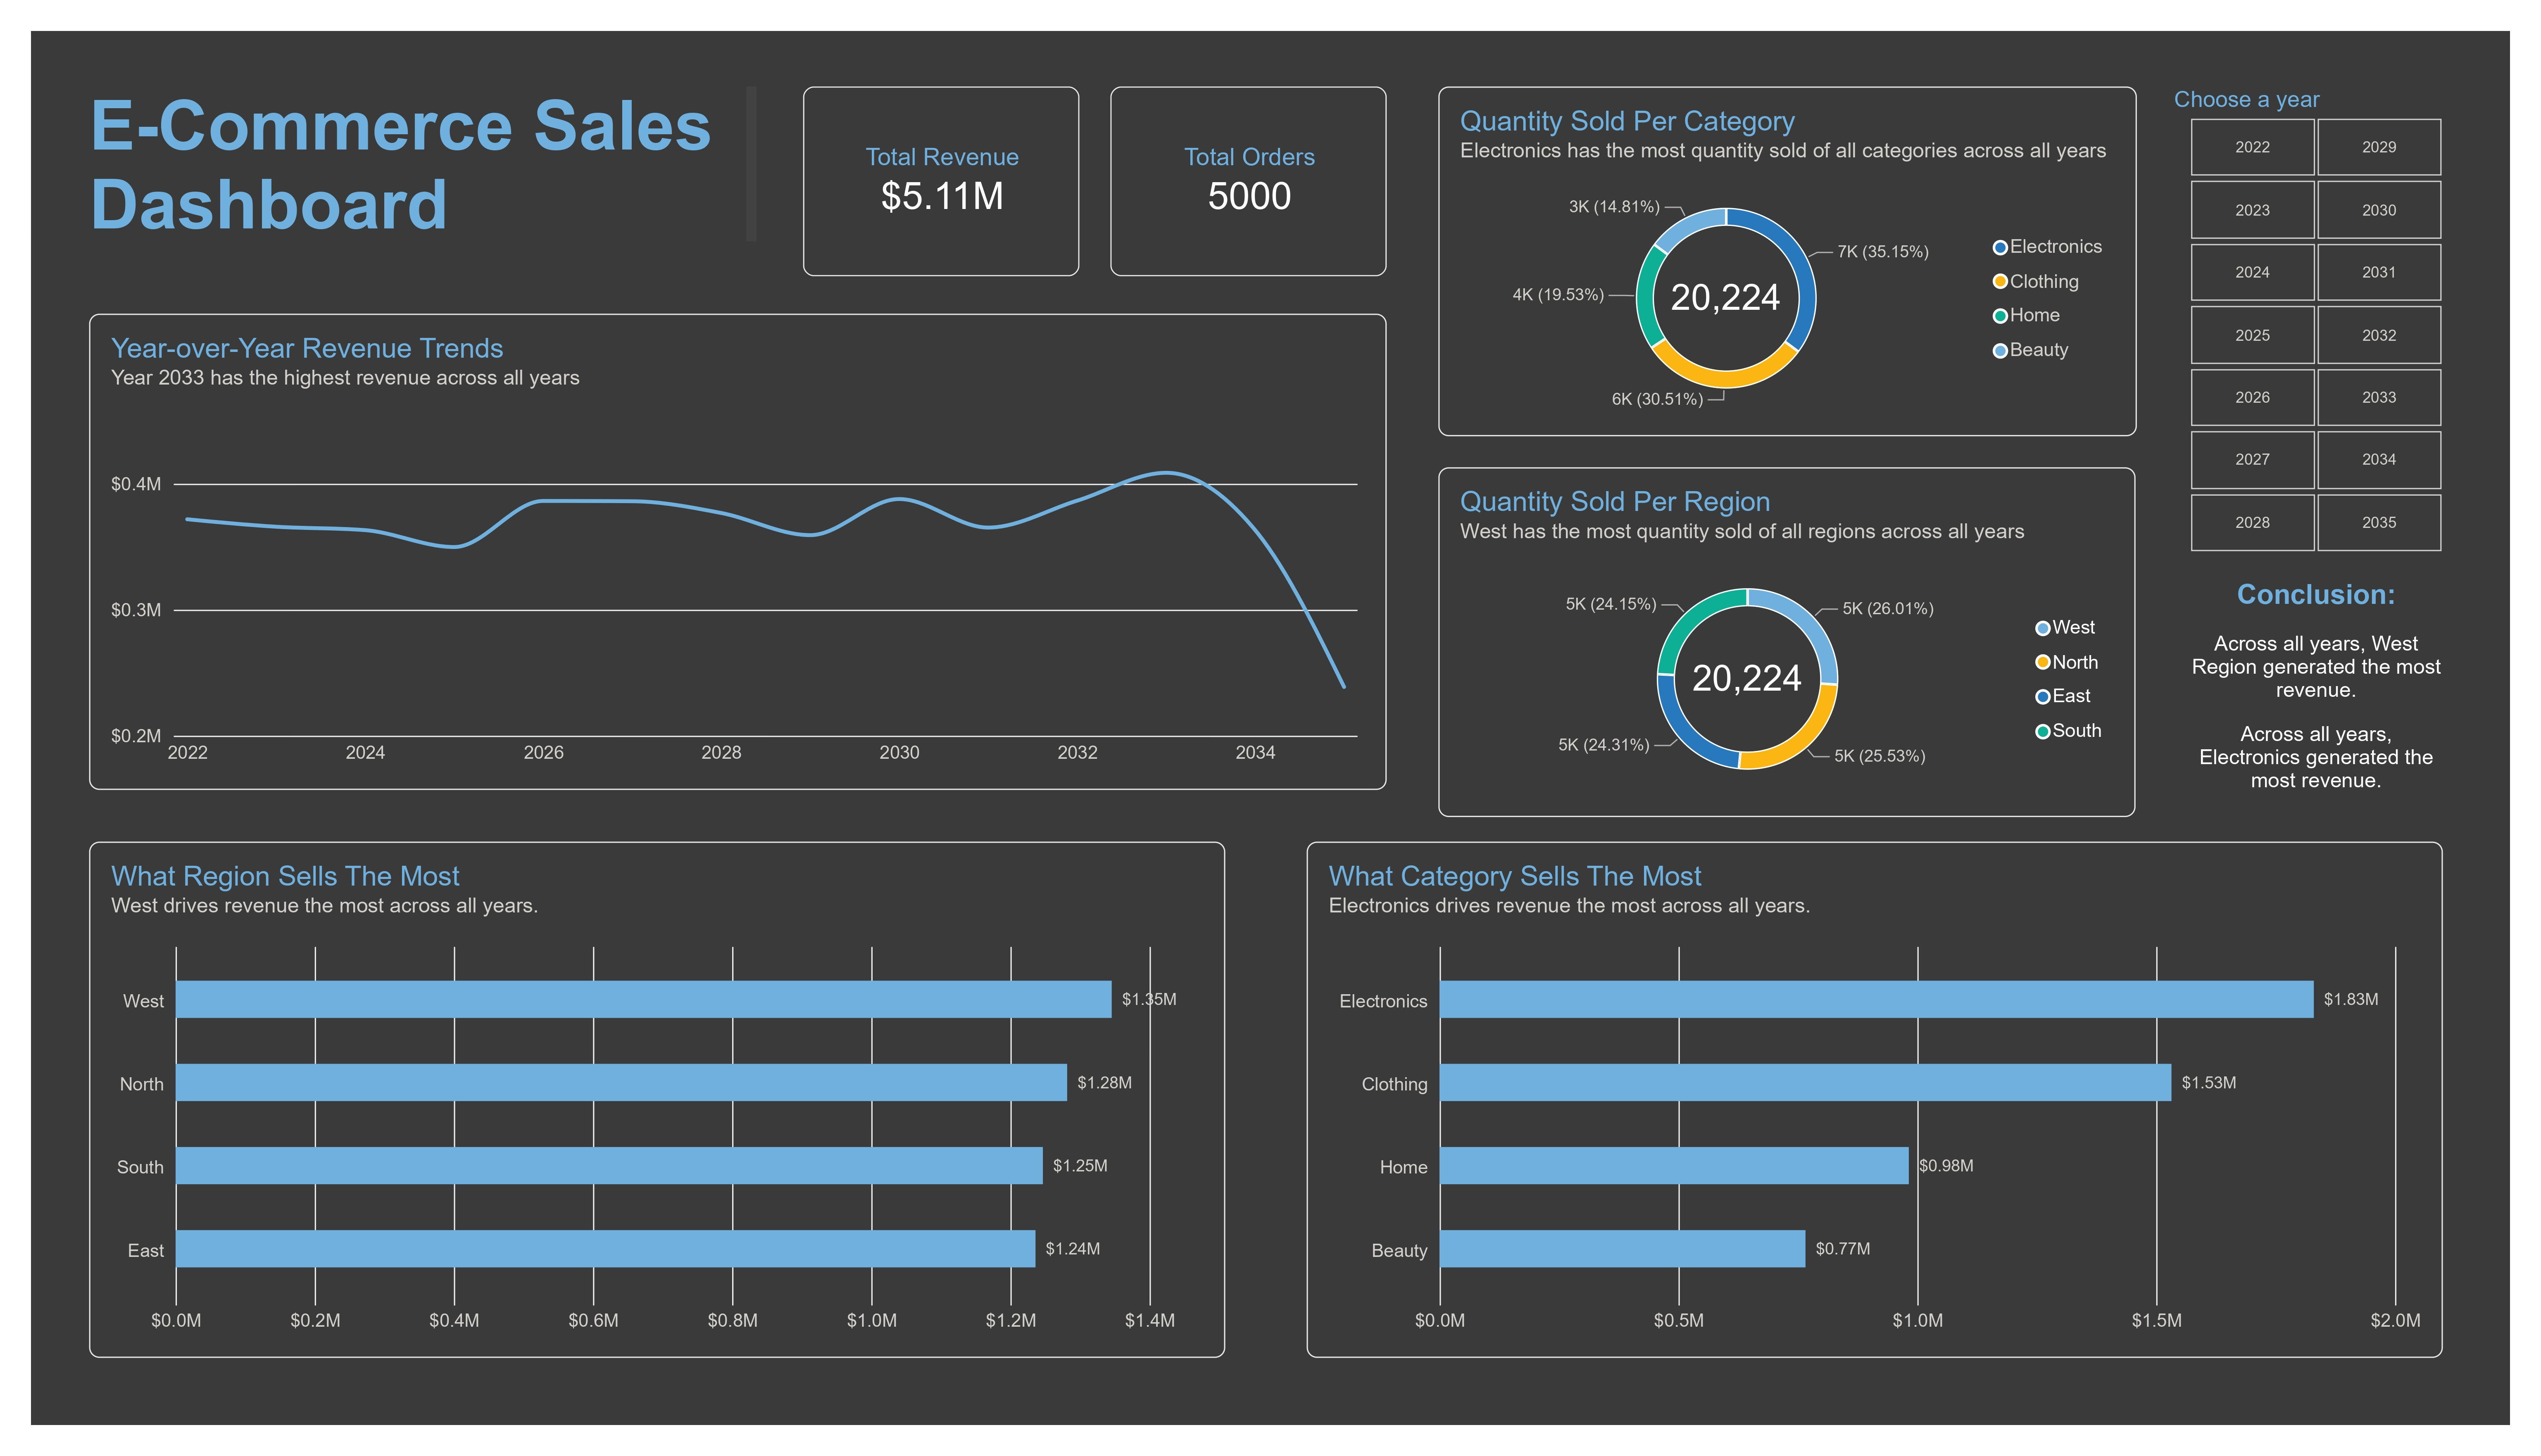

Layout of this report page (visuals, bound fields, positions):
{"tool":"powerbi","page":{"name":"E-Commerce Sales Analysis","canvas":[1920,1080],"ordinal":0},"visuals":[{"type":"textbox","box":[45.2,42.9,516.7,121.4],"z":0},{"type":"cardVisual","fields":{"Data":["Sum(sales.revenue)"]},"box":[597.6,42.9,214.3,147.6],"z":1000},{"type":"clusteredBarChart","title":"What Region Sells The Most","fields":{"Category":["sales.region"],"Y":["Sum(sales.revenue)"]},"box":[45,627.5,880,400],"z":2000},{"type":"barChart","title":"What Category Sells The Most","fields":{"Category":["sales.product_category"],"Y":["Sum(sales.revenue)"]},"box":[987.5,627.5,880,400],"z":3000},{"type":"lineChart","title":"Year-over-Year Revenue Trends","fields":{"Category":["sales.order_date.Variation.Date Hierarchy.Year"],"Y":["Sum(sales.revenue)"]},"box":[45.2,219,1004.8,369],"z":4000},{"type":"donutChart","title":"Quantity Sold Per Region","fields":{"Category":["sales.region"],"Y":["Sum(sales.quantity)"]},"box":[1090,337.5,540.5,271.4],"z":5000},{"type":"cardVisual","fields":{"Data":["_Measures.Total Orders"]},"box":[835.7,42.9,214.3,147.6],"z":6000},{"type":"slicer","fields":{"Values":["sales.order_date.Variation.Date Hierarchy.Year"]},"box":[1652.4,42.9,233.3,361.9],"z":6001},{"type":"donutChart","title":"Quantity Sold Per Category","fields":{"Category":["sales.product_category"],"Y":["Sum(sales.quantity)"]},"box":[1090.5,42.9,540.5,271.4],"z":6002},{"type":"textbox","box":[1673.4,425,193.8,184.4],"z":6003}]}

Visuals, with their boxes in screenshot pixels (x1, y1, x2, y2):
textbox: Rect(28, 91, 727, 255)
cardVisual - Sum(sales.revenue): Rect(776, 91, 1066, 291)
"What Region Sells The Most" clusteredBarChart: Rect(28, 882, 1218, 1423)
"What Category Sells The Most" barChart: Rect(1303, 882, 2494, 1423)
"Year-over-Year Revenue Trends" lineChart: Rect(28, 329, 1388, 829)
"Quantity Sold Per Region" donutChart: Rect(1442, 489, 2173, 857)
cardVisual - _Measures.Total Orders: Rect(1098, 91, 1388, 291)
slicer - sales.order_date.Variation.Date Hierarchy.Year: Rect(2203, 91, 2518, 581)
"Quantity Sold Per Category" donutChart: Rect(1442, 91, 2174, 458)
textbox: Rect(2231, 608, 2493, 857)
